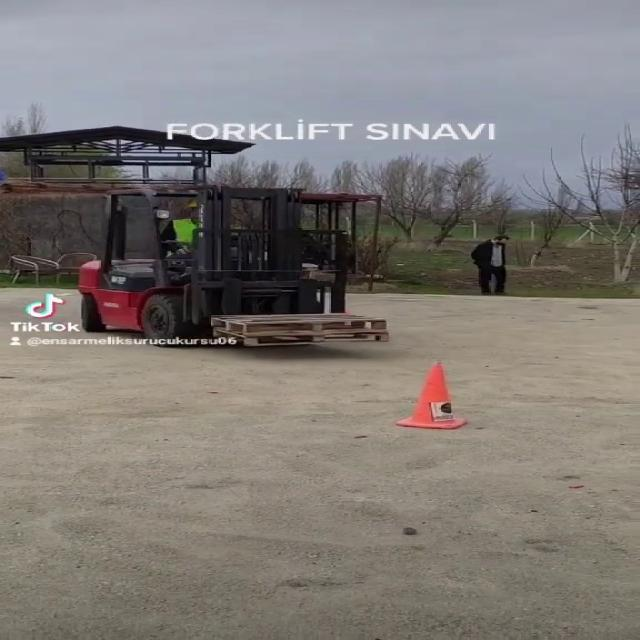forklift: (76, 190, 376, 340)
pallets: (200, 307, 412, 353)
person: (138, 201, 236, 263), (458, 228, 531, 304)
